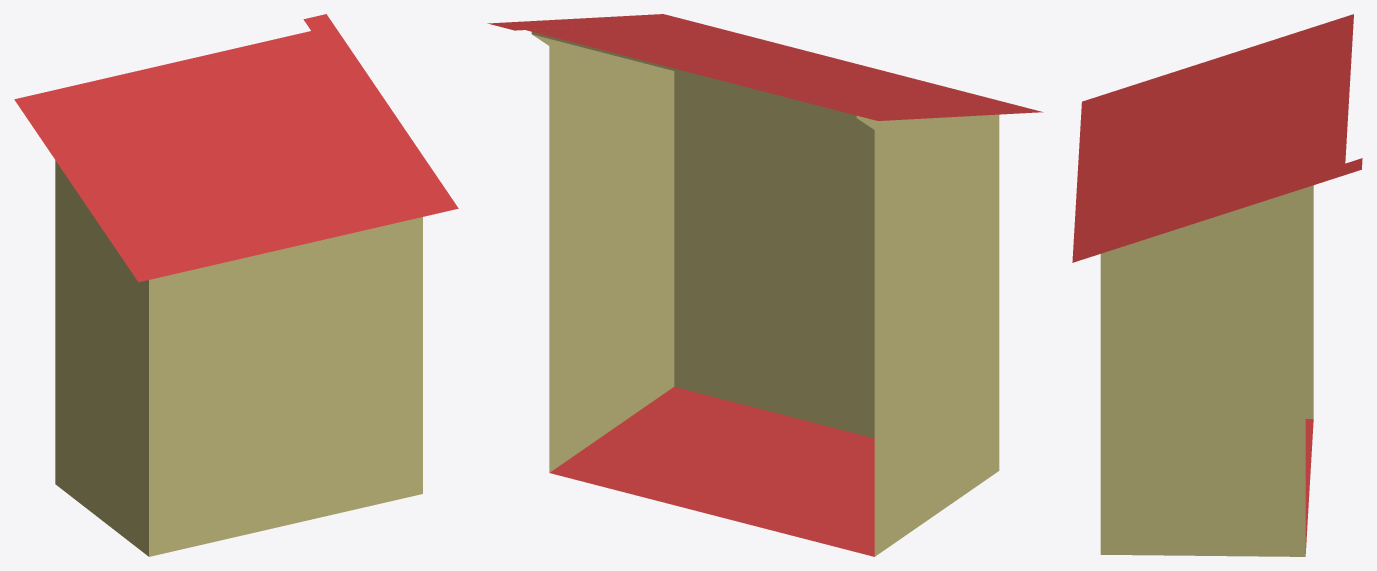
3 renders of one model, left to right at view 1: azimuth 30°, elevation 25°; view 2: azimuth 150°, elevation 25°; view 3: azimuth 270°, elevation 25°, orthographic. The views are drawn at different scales.
Size of the model in its own units: 7.04 by 5.25 by 7.98.
